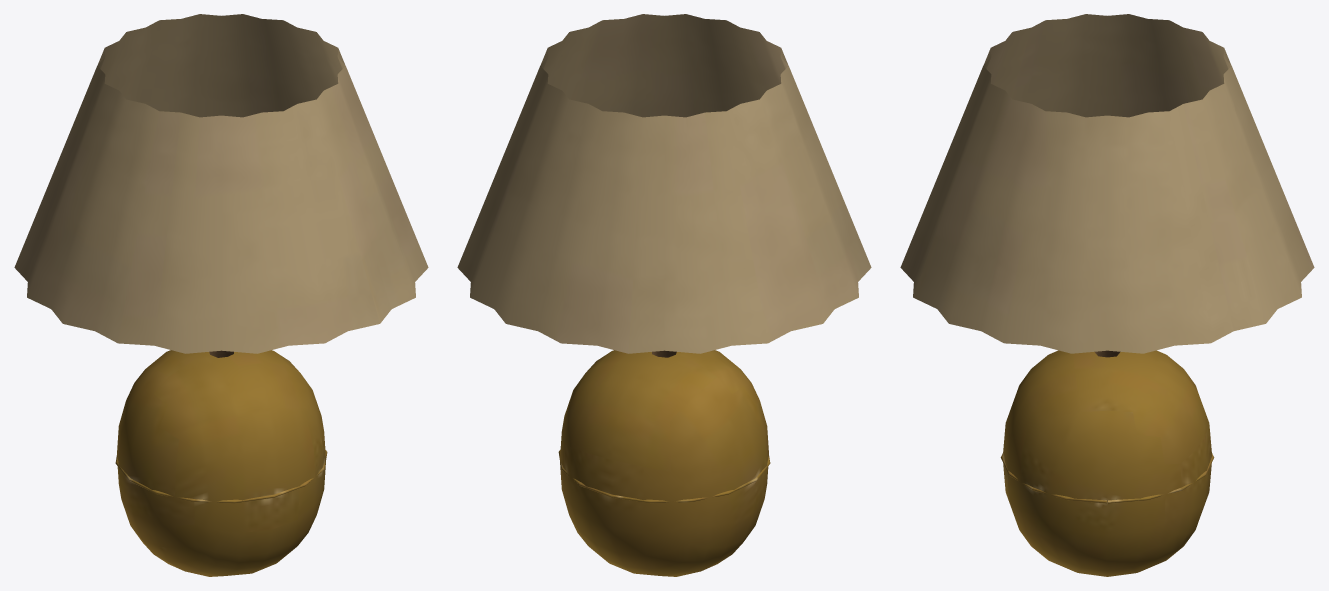
File: table_lamp.glb
3 renders of one model, left to right at view 1: azimuth 30°, elevation 25°; view 2: azimuth 150°, elevation 25°; view 3: azimuth 270°, elevation 25°, orthographic.
Parts seen in each view (by area): view 1: prop_table_lamp_paper, prop_table_lamp_felt; view 2: prop_table_lamp_paper, prop_table_lamp_felt; view 3: prop_table_lamp_paper, prop_table_lamp_felt.
Part boxes in pixels (bbox=[...]): prop_table_lamp_paper: bbox=[14, 14, 428, 353]; prop_table_lamp_felt: bbox=[115, 350, 327, 576]; prop_table_lamp_paper: bbox=[457, 14, 871, 353]; prop_table_lamp_felt: bbox=[558, 350, 770, 576]; prop_table_lamp_paper: bbox=[900, 14, 1314, 353]; prop_table_lamp_felt: bbox=[1000, 350, 1214, 576].
Size of the model in its own units: 0.6224 by 0.84 by 0.632.
Materials: 3 (3 with a texture image).
